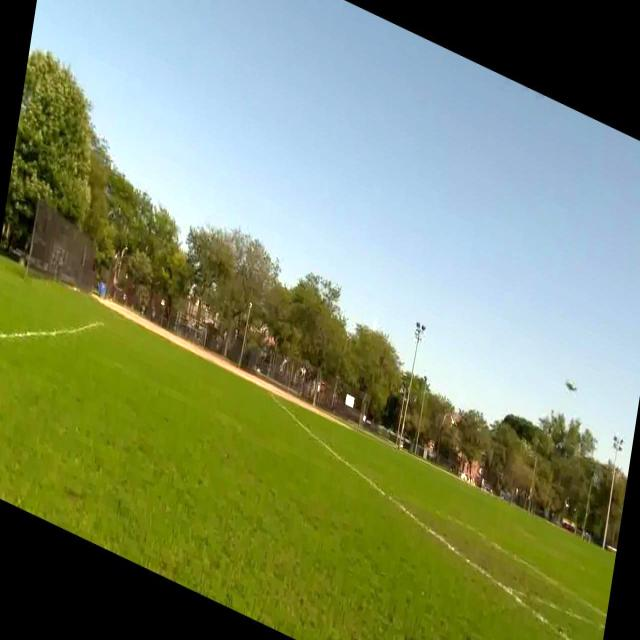drone: (560, 365, 580, 401)
